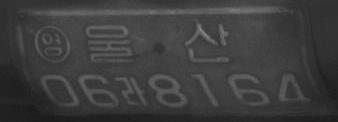0: (40, 72, 80, 109)
1: (188, 71, 225, 107)
4: (277, 71, 314, 107)
6: (227, 71, 271, 108), (80, 72, 120, 109)
8: (149, 72, 188, 108)
라: (120, 74, 149, 106)
영: (33, 24, 70, 65)
울산_D: (85, 21, 230, 64)
